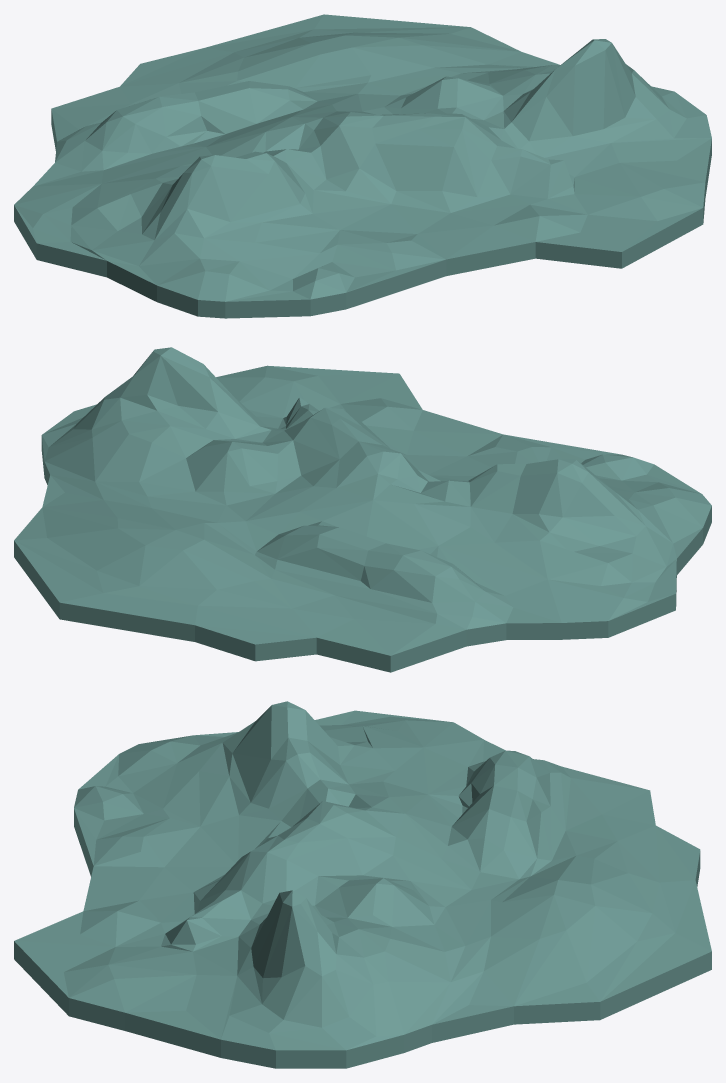
File: delh_terr_01_03.fbx
The picture shows the model from 3 angles, top to bottom: view 1: azimuth 30°, elevation 25°; view 2: azimuth 150°, elevation 25°; view 3: azimuth 270°, elevation 25°; orthographic projection. The views are drawn at different scales.
Parts seen in each view (by area): view 1: delh_terr_01_03; view 2: delh_terr_01_03; view 3: delh_terr_01_03.
Part boxes in pixels (x1=…): delh_terr_01_03: x1=14, y1=14, x2=711, y2=318; delh_terr_01_03: x1=14, y1=347, x2=711, y2=672; delh_terr_01_03: x1=14, y1=701, x2=711, y2=1068.
Size of the model in its own units: 17052 by 2862 by 14803.
